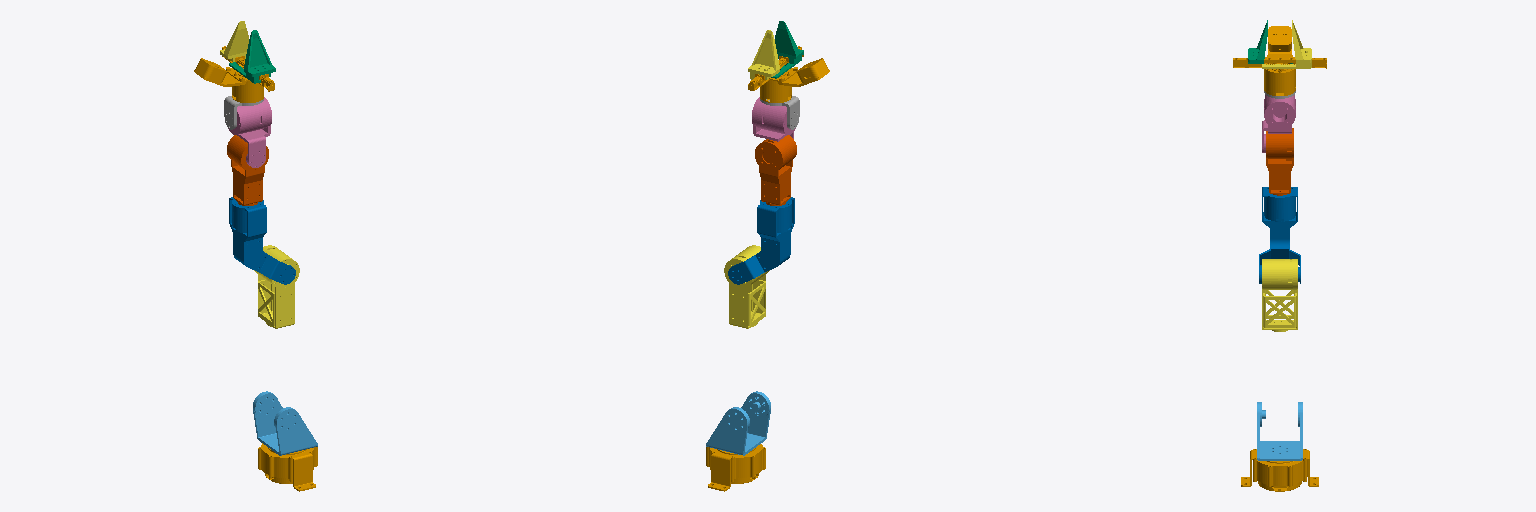
The robot description file, URDF, robot "robot":
<?xml version="1.0" encoding="UTF-8"?>
<robot name="robot">
  <link name="base_link">
    <inertial>
      <mass value="0.69162878"/>
      <origin xyz="0.0000558 -0.00005184 0.03162308" rpy="0 0 0"/>
      <inertia ixx="0.0008996" ixy="3.7e-7" ixz="8e-7" iyy="0.00061988" iyz="-0.0000044" izz="0.00106115"/>
    </inertial>
    <visual>
      <origin xyz="0 0 0" rpy="0 0 0"/>
      <geometry>
        <mesh filename="meshes/base_link.stl"/>
      </geometry>
    </visual>
    <collision>
      <origin xyz="0 0 0" rpy="0 0 0"/>
      <geometry>
        <mesh filename="meshes/base_link.stl"/>
      </geometry>
    </collision>
  </link>
  <link name="Link_1">
    <inertial>
      <mass value="0.48230711"/>
      <origin xyz="-0.00939786 0.0000704 0.03350522" rpy="0 0 0"/>
      <inertia ixx="0.00091496" ixy="4.8e-7" ixz="0.00012968" iyy="0.00058896" iyz="-0.0000012" izz="0.00073282"/>
    </inertial>
    <visual>
      <origin xyz="0 0 0" rpy="0 0 0"/>
      <geometry>
        <mesh filename="meshes/Link_1.stl"/>
      </geometry>
    </visual>
    <collision>
      <origin xyz="0 0 0" rpy="0 0 0"/>
      <geometry>
        <mesh filename="meshes/Link_1.stl"/>
      </geometry>
    </collision>
  </link>
  <link name="Link_2">
    <inertial>
      <mass value="1.94611811"/>
      <origin xyz="0.00000532 -0.06379929 -0.03408965" rpy="0 0 0"/>
      <inertia ixx="0.01118348" ixy="0.00000311" ixz="6.1e-7" iyy="0.0017217" iyz="0.00019674" izz="0.01120132"/>
    </inertial>
    <visual>
      <origin xyz="0 0 0" rpy="0 0 0"/>
      <geometry>
        <mesh filename="meshes/Link_2.stl"/>
      </geometry>
    </visual>
    <collision>
      <origin xyz="0 0 0" rpy="0 0 0"/>
      <geometry>
        <mesh filename="meshes/Link_2.stl"/>
      </geometry>
    </collision>
  </link>
  <link name="Link_3">
    <inertial>
      <mass value="1.01676546"/>
      <origin xyz="-0.00002259 -0.00043766 0.09074299" rpy="0 0 0"/>
      <inertia ixx="0.00170773" ixy="4.4e-7" ixz="3.9e-7" iyy="0.00150816" iyz="0.00000773" izz="0.00061728"/>
    </inertial>
    <visual>
      <origin xyz="0 0 0" rpy="0 0 0"/>
      <geometry>
        <mesh filename="meshes/Link_3.stl"/>
      </geometry>
    </visual>
    <collision>
      <origin xyz="0 0 0" rpy="0 0 0"/>
      <geometry>
        <mesh filename="meshes/Link_3.stl"/>
      </geometry>
    </collision>
  </link>
  <link name="Link_4">
    <inertial>
      <mass value="1.31493568"/>
      <origin xyz="-0.05223196 0.08041667 -0.03084671" rpy="0 0 0"/>
      <inertia ixx="0.00256753" ixy="0.00044865" ixz="-0.00000907" iyy="0.00083187" iyz="0.00001387" izz="0.00261887"/>
    </inertial>
    <visual>
      <origin xyz="0 0 0" rpy="0 0 0"/>
      <geometry>
        <mesh filename="meshes/Link_4.stl"/>
      </geometry>
    </visual>
    <collision>
      <origin xyz="0 0 0" rpy="0 0 0"/>
      <geometry>
        <mesh filename="meshes/Link_4.stl"/>
      </geometry>
    </collision>
  </link>
  <link name="Link_5">
    <inertial>
      <mass value="1.03123423"/>
      <origin xyz="-0.00002277 -0.00013572 0.07326344" rpy="0 0 0"/>
      <inertia ixx="0.00138155" ixy="4.3e-7" ixz="5.8e-7" iyy="0.00137365" iyz="-0.00001051" izz="0.00036176"/>
    </inertial>
    <visual>
      <origin xyz="0 0 0" rpy="0 0 0"/>
      <geometry>
        <mesh filename="meshes/Link_5.stl"/>
      </geometry>
    </visual>
    <collision>
      <origin xyz="0 0 0" rpy="0 0 0"/>
      <geometry>
        <mesh filename="meshes/Link_5.stl"/>
      </geometry>
    </collision>
  </link>
  <link name="Link_6">
    <inertial>
      <mass value="0.888259"/>
      <origin xyz="-0.00011233 0.06329954 -0.02121872" rpy="0 0 0"/>
      <inertia ixx="0.00068987" ixy="0.00002087" ixz="-2.3e-7" iyy="0.00050599" iyz="0.00010841" izz="0.00074389"/>
    </inertial>
    <visual>
      <origin xyz="0 0 0" rpy="0 0 0"/>
      <geometry>
        <mesh filename="meshes/Link_6.stl"/>
      </geometry>
    </visual>
    <collision>
      <origin xyz="0 0 0" rpy="0 0 0"/>
      <geometry>
        <mesh filename="meshes/Link_6.stl"/>
      </geometry>
    </collision>
  </link>
  <link name="Link_7">
    <inertial>
      <mass value="0.09346317"/>
      <origin xyz="0.02413322 0 -0.01539933" rpy="0 0 0"/>
      <inertia ixx="0.0000561" ixy="0" ixz="0.00001734" iyy="0.00006109" iyz="0" izz="0.00003789"/>
    </inertial>
    <visual>
      <origin xyz="0 0 0" rpy="0 0 0"/>
      <geometry>
        <mesh filename="meshes/Link_7.stl"/>
      </geometry>
    </visual>
    <collision>
      <origin xyz="0 0 0" rpy="0 0 0"/>
      <geometry>
        <mesh filename="meshes/Link_7.stl"/>
      </geometry>
    </collision>
  </link>
  <link name="Link_ee">
    <inertial>
      <mass value="2.29846423"/>
      <origin xyz="-0.00003041 0.00463951 -0.10312018" rpy="0 0 0"/>
      <inertia ixx="0.06158132" ixy="0.00000481" ixz="-0.00000279" iyy="0.05976071" iyz="0.008958" izz="0.00306785"/>
    </inertial>
    <visual>
      <origin xyz="0 0 0" rpy="0 0 0"/>
      <geometry>
        <mesh filename="meshes/Link_ee.stl"/>
      </geometry>
    </visual>
    <collision>
      <origin xyz="0 0 0" rpy="0 0 0"/>
      <geometry>
        <mesh filename="meshes/Link_ee.stl"/>
      </geometry>
    </collision>
  </link>
  <link name="Link_tool">
  </link>
  <link name="Link_12">
    <inertial>
      <mass value="0.11778883"/>
      <origin xyz="0.00287554 0.02840234 0.00516111" rpy="0 0 0"/>
      <inertia ixx="0.00005212" ixy="0.00000733" ixz="0.00000375" iyy="0.00007215" iyz="0.00000348" izz="0.00006361"/>
    </inertial>
    <visual>
      <origin xyz="0 0 0" rpy="0 0 0"/>
      <geometry>
        <mesh filename="meshes/Link_12.stl"/>
      </geometry>
    </visual>
    <collision>
      <origin xyz="0 0 0" rpy="0 0 0"/>
      <geometry>
        <mesh filename="meshes/Link_12.stl"/>
      </geometry>
    </collision>
  </link>
  <link name="Link_13">
    <inertial>
      <mass value="0.11903541"/>
      <origin xyz="-0.00276631 -0.02843533 0.00553903" rpy="0 0 0"/>
      <inertia ixx="0.00005105" ixy="0.00000747" ixz="-0.00000485" iyy="0.00007105" iyz="-0.00000314" izz="0.00006395"/>
    </inertial>
    <visual>
      <origin xyz="0 0 0" rpy="0 0 0"/>
      <geometry>
        <mesh filename="meshes/Link_13.stl"/>
      </geometry>
    </visual>
    <collision>
      <origin xyz="0 0 0" rpy="0 0 0"/>
      <geometry>
        <mesh filename="meshes/Link_13.stl"/>
      </geometry>
    </collision>
  </link>
  <joint name="Joint_1" type="revolute">
    <parent link="base_link"/>
    <child link="Link_1"/>
    <origin xyz="0 -0.00001092 0.0566" rpy="0 0 0"/>
    <axis xyz="0 0 1"/>
    <limit lower="-3.14159" upper="3.14159" effort="10" velocity="1"/>
  </joint>
  <joint name="Joint_2" type="revolute">
    <parent link="Link_1"/>
    <child link="Link_2"/>
    <origin xyz="-0.0235 0.0325 0.069" rpy="-1.57079633 0 0"/>
    <axis xyz="0 0 1"/>
    <limit lower="-1.571" upper="1.571" effort="10" velocity="1"/>
  </joint>
  <joint name="Joint_3" type="revolute">
    <parent link="Link_2"/>
    <child link="Link_3"/>
    <origin xyz="-1.8e-7 -0.173 -0.03249939" rpy="1.57079633 0 0"/>
    <axis xyz="0 0 1"/>
    <limit lower="-3.14159" upper="3.14159" effort="10" velocity="1"/>
  </joint>
  <joint name="Joint_4" type="revolute">
    <parent link="Link_3"/>
    <child link="Link_4"/>
    <origin xyz="0 -0.031 0.108" rpy="1.57079633 0 0"/>
    <axis xyz="0 0 1"/>
    <limit lower="-3.14159" upper="3.14159" effort="10" velocity="1"/>
  </joint>
  <joint name="Joint_5" type="revolute">
    <parent link="Link_4"/>
    <child link="Link_5"/>
    <origin xyz="-0.0570187 0.13799997 -0.031" rpy="-1.57079633 0 0"/>
    <axis xyz="0 0 1"/>
    <limit lower="-3.14159" upper="3.14159" effort="10" velocity="1"/>
  </joint>
  <joint name="Joint_6" type="revolute">
    <parent link="Link_5"/>
    <child link="Link_6"/>
    <origin xyz="0 -0.0235 0.098" rpy="1.57079633 0 0"/>
    <axis xyz="0 0 1"/>
    <limit lower="-3.14159" upper="3.14159" effort="10" velocity="1"/>
  </joint>
  <joint name="Joint_7" type="revolute">
    <parent link="Link_6"/>
    <child link="Link_7"/>
    <origin xyz="-0.0325 0.07046661 -0.0235" rpy="-1.57079633 0 1.57079633"/>
    <axis xyz="0 0 1"/>
    <limit lower="-3.14159" upper="3.14159" effort="10" velocity="1"/>
  </joint>
  <joint name="Joint_ee" type="fixed">
    <parent link="Link_7"/>
    <child link="Link_ee"/>
    <origin xyz="0.037 0 -0.0325" rpy="-1.57079633 0 -1.57079633"/>
    <axis xyz="0 0 1"/>
  </joint>
  <joint name="Joint_tool" type="fixed">
    <parent link="Link_ee"/>
    <child link="Link_tool"/>
    <origin xyz="0 0 0.134" rpy="0 -1.57 1.57079633"/>
    <axis xyz="0 0 1"/>
  </joint>
  <joint name="gripper1" type="prismatic">
    <parent link="Link_tool"/>
    <child link="Link_12"/>
    <origin xyz="-0.06248011 -0.02843143 -0.02504976" rpy="1.57 -0.00079633 0"/>
    <axis xyz="0 0 1"/>
    <limit lower="-0.021" upper="0.04" effort="100" velocity="0.1"/>
  </joint>
  <joint name="gipper2" type="prismatic">
    <parent link="Link_tool"/>
    <child link="Link_13"/>
    <origin xyz="-0.06251993 0.02843143 0.02495022" rpy="1.57 0.00079633 3.14159265"/>
    <axis xyz="0 0 1"/>
    <limit lower="-0.021" upper="0.04" effort="100" velocity="0.1"/>
  </joint>
</robot>

--- Facts derived from the render (not from the file) ---
3 views of the same robot in one strip: view 1: azimuth 30°, elevation 25°; view 2: azimuth 150°, elevation 25°; view 3: azimuth 270°, elevation 25° (orthographic).
Robot: robot — 12 links, 11 joints (7 revolute, 2 prismatic, 2 fixed); root link base_link; default pose: all joints at 0.
Visible links, largest first — view 1: Link_4, Link_1, Link_3, base_link, Link_ee, Link_6, Link_5, Link_12, Link_13; view 2: Link_4, Link_1, Link_5, Link_3, base_link, Link_ee, Link_6, Link_13, Link_12; view 3: Link_3, Link_ee, Link_4, base_link, Link_5, Link_1, Link_6, Link_13.
Link boxes in pixels (left/top/right/bottom): Link_4: left=229, top=197, right=295, bottom=284; Link_1: left=253, top=391, right=317, bottom=455; Link_3: left=254, top=245, right=299, bottom=328; base_link: left=258, top=443, right=317, bottom=491; Link_ee: left=194, top=46, right=274, bottom=102; Link_6: left=228, top=97, right=271, bottom=167; Link_5: left=227, top=135, right=268, bottom=205; Link_12: left=229, top=30, right=275, bottom=83; Link_13: left=220, top=21, right=248, bottom=61; Link_4: left=728, top=197, right=794, bottom=284; Link_1: left=706, top=391, right=770, bottom=455; Link_5: left=755, top=135, right=796, bottom=205; Link_3: left=724, top=245, right=769, bottom=328; base_link: left=706, top=444, right=765, bottom=491; Link_ee: left=748, top=46, right=829, bottom=102; Link_6: left=752, top=97, right=795, bottom=141; Link_13: left=748, top=30, right=779, bottom=79; Link_12: left=771, top=21, right=803, bottom=78; Link_3: left=1262, top=259, right=1297, bottom=331; Link_ee: left=1233, top=26, right=1326, bottom=95; Link_4: left=1259, top=187, right=1300, bottom=283; base_link: left=1241, top=449, right=1318, bottom=491; Link_5: left=1266, top=128, right=1293, bottom=195; Link_1: left=1257, top=402, right=1302, bottom=460; Link_6: left=1262, top=95, right=1295, bottom=152; Link_13: left=1262, top=20, right=1311, bottom=68.
Size in the robot's own frame: 0.2298 by 0.17 by 0.8866 metres.
Meshes: 11 distinct files referenced, 10 mesh visuals loaded (10 binary STL); not drawn: 1 (reference not matched to a file when rendering).
